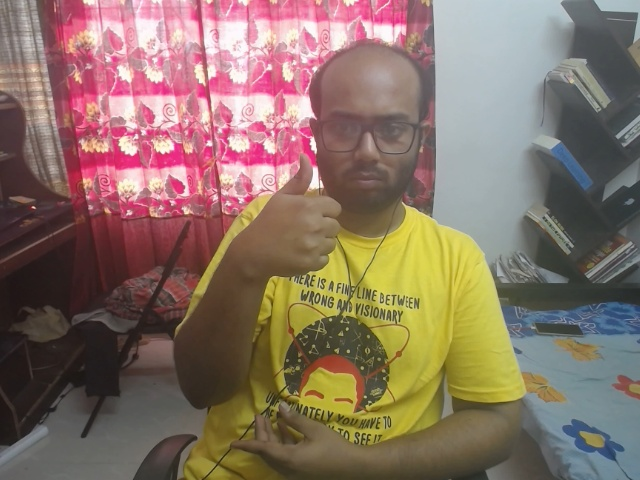six: (223, 148, 348, 309)
